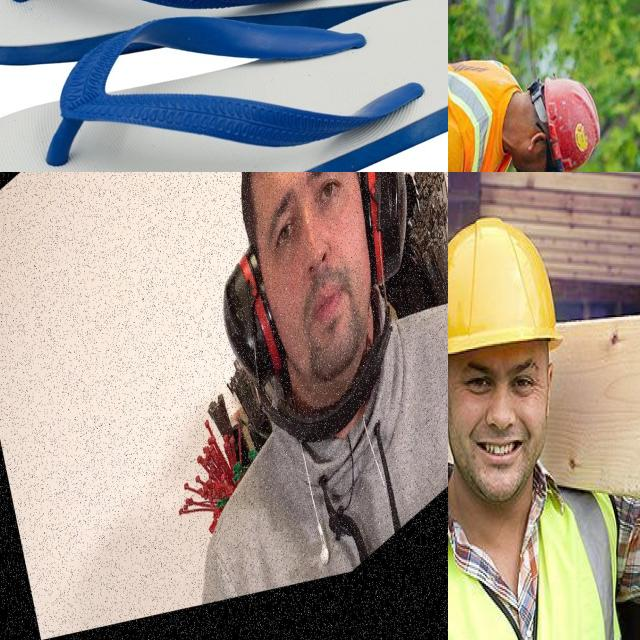Ear-protection: (219, 245, 287, 388), (353, 172, 411, 288)
No_Glasses: (263, 172, 355, 255), (454, 353, 552, 409)
Sandals: (0, 0, 448, 172)
face_nomask: (448, 354, 542, 490), (516, 134, 561, 172)
head_helmet: (448, 216, 567, 347), (542, 75, 602, 172)
head_nohelmet: (222, 172, 362, 202)
person: (193, 172, 448, 601), (448, 213, 640, 640), (448, 24, 525, 172)
vest: (448, 507, 636, 640), (448, 57, 500, 172)
